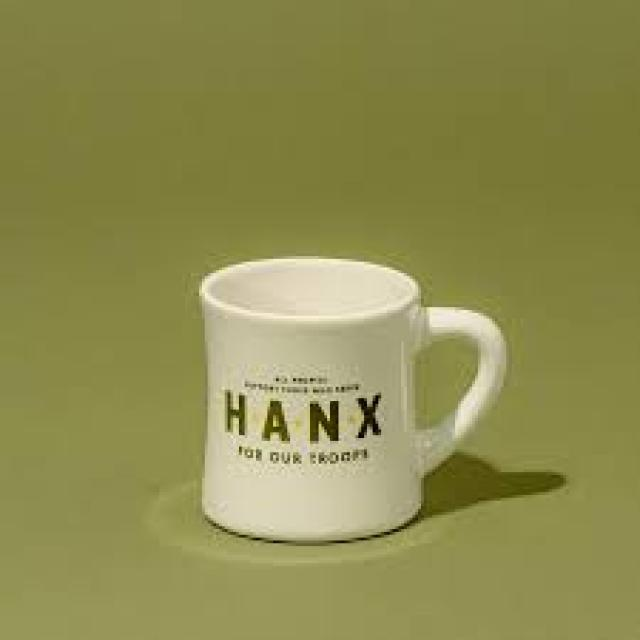taza: (199, 254, 509, 543)
